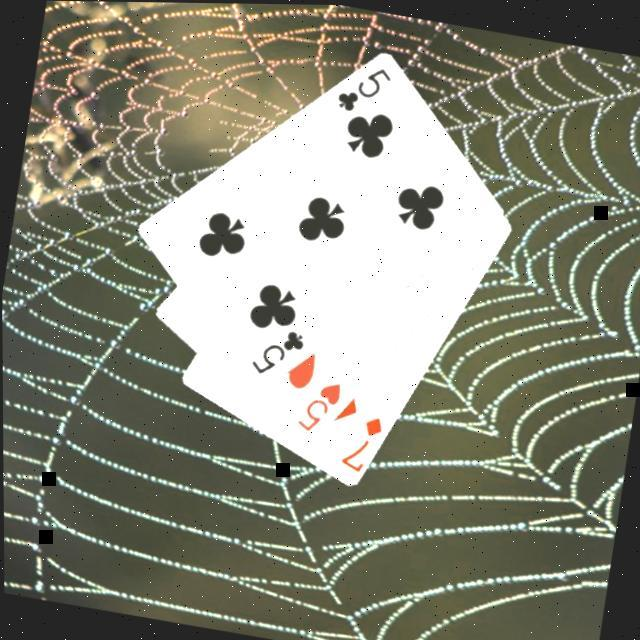5C: (247, 318, 311, 383), (333, 55, 397, 120)
5H: (294, 371, 348, 438)
7D: (337, 406, 388, 476)
